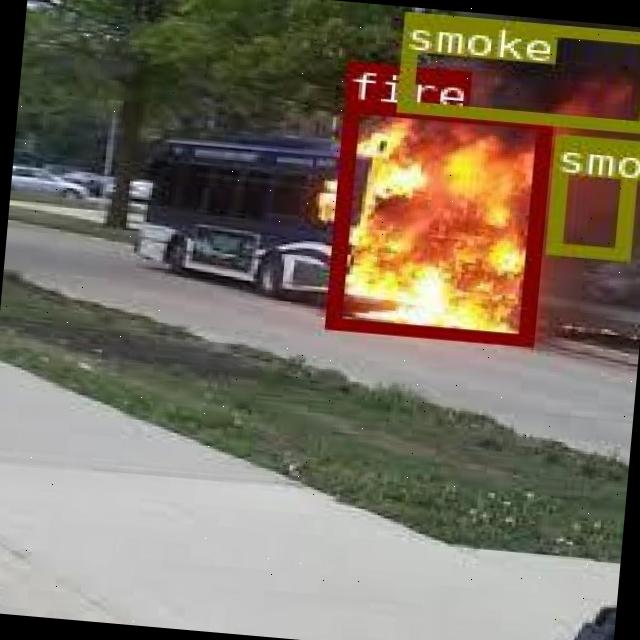fire: (324, 99, 548, 344)
smoke: (392, 9, 640, 131), (543, 132, 636, 256)
